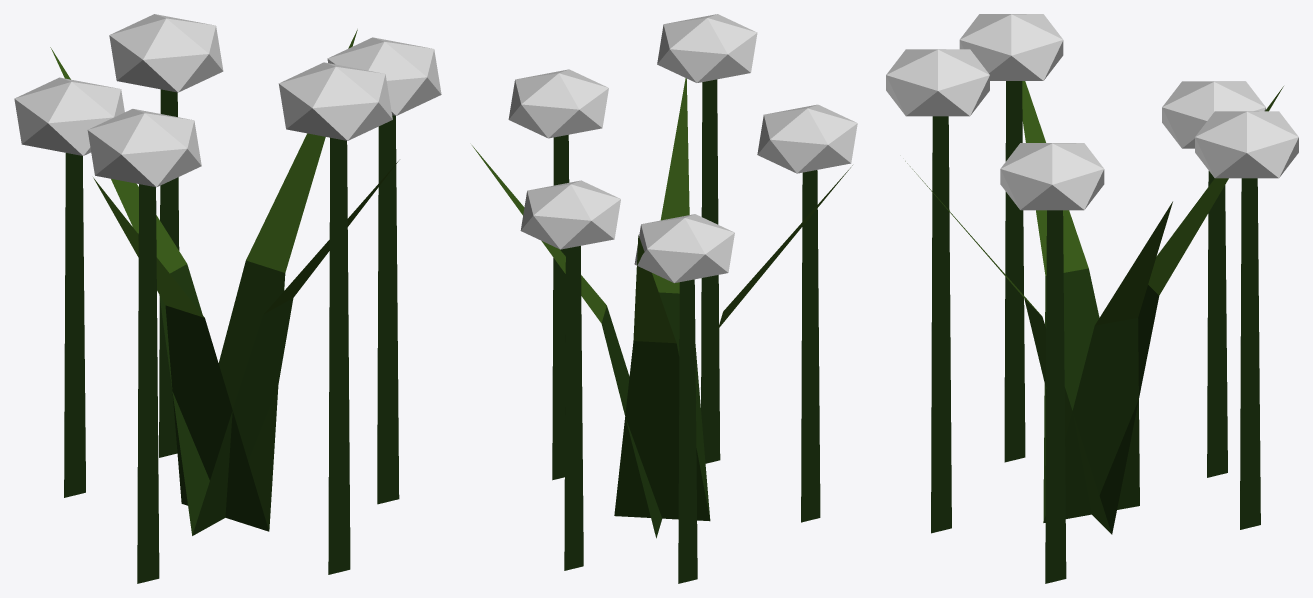
Rendered from flowers.fbx.
3 views of the same model, side by side, from view 1: azimuth 30°, elevation 25°; view 2: azimuth 150°, elevation 25°; view 3: azimuth 270°, elevation 25° (orthographic). The views are drawn at different scales.
Visible parts, largest first — view 1: flowers; view 2: flowers; view 3: flowers.
Boxes of the visible parts, box(x1,y1,x2,y2) form: flowers: box(14, 14, 441, 583); flowers: box(472, 14, 857, 583); flowers: box(886, 14, 1298, 583).
Bounding box in the file's own units: 0.229 × 0.3025 × 0.2365.
